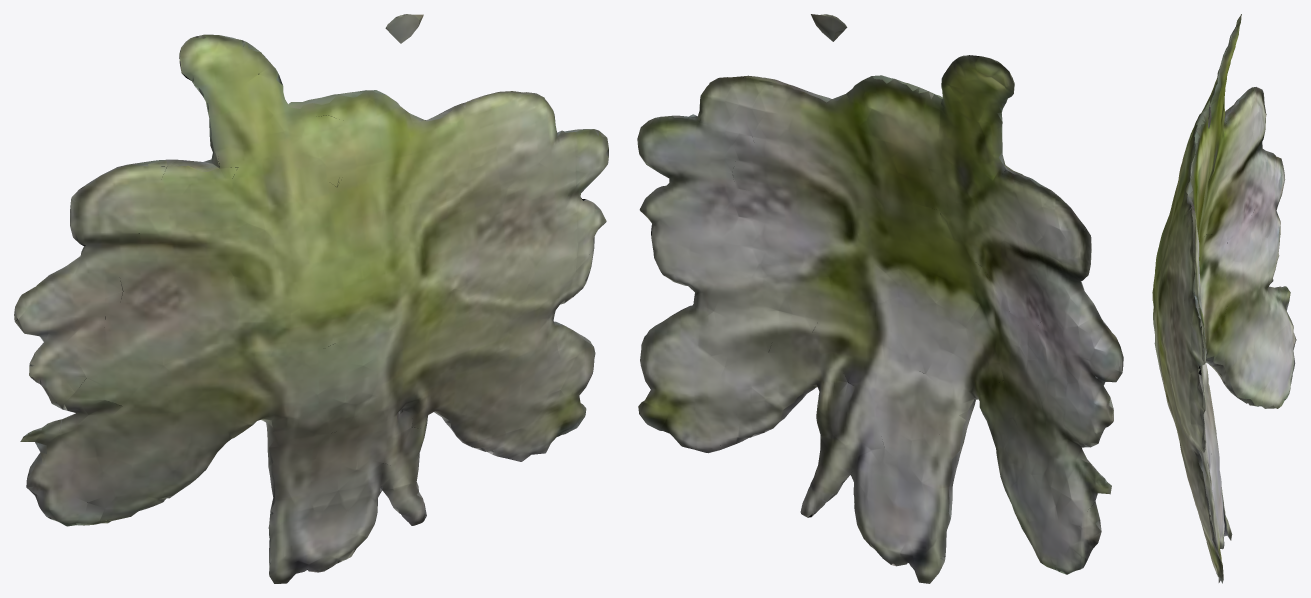
File: adathoda.glb
The picture shows the model from 3 angles, left to right: view 1: azimuth 30°, elevation 25°; view 2: azimuth 150°, elevation 25°; view 3: azimuth 270°, elevation 25°; orthographic projection. The views are drawn at different scales.
Visible parts, largest first — view 1: world; view 2: world; view 3: world.
Part boxes in pixels (box(x1,y1,x2,y2)): world: box(14, 14, 608, 583); world: box(637, 14, 1123, 583); world: box(1152, 14, 1296, 583).
Size of the model in its own units: 0.8667 by 0.8526 by 0.2271.
Materials: 1 (1 with a texture image).
